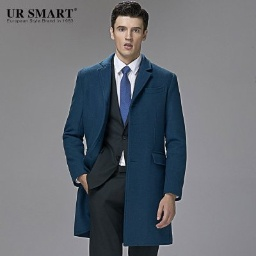face: (110, 2, 150, 57)
